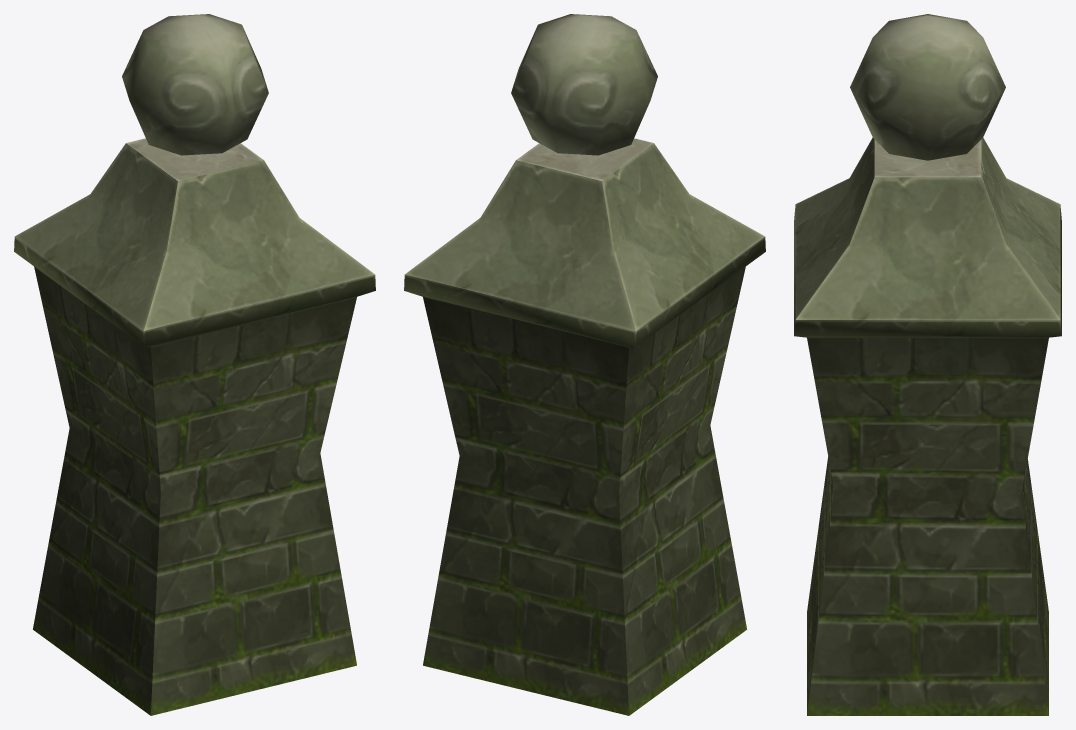
Rendered from qiang01_01.FBX.
The picture shows the model from 3 angles, left to right: view 1: azimuth 30°, elevation 25°; view 2: azimuth 150°, elevation 25°; view 3: azimuth 270°, elevation 25°; orthographic projection. The views are drawn at different scales.
Visible parts, largest first — view 1: qiang01_01; view 2: qiang01_01; view 3: qiang01_01.
Part boxes in pixels (x1=…): qiang01_01: x1=14, y1=14, x2=375, y2=715; qiang01_01: x1=404, y1=14, x2=765, y2=715; qiang01_01: x1=794, y1=14, x2=1061, y2=715.
Bounding box in the file's own units: 202 × 526 × 197.
Materials: 1 (1 with a texture image).
